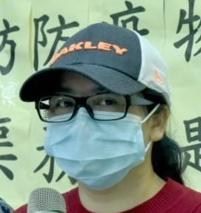OK: (48, 77, 147, 190)
